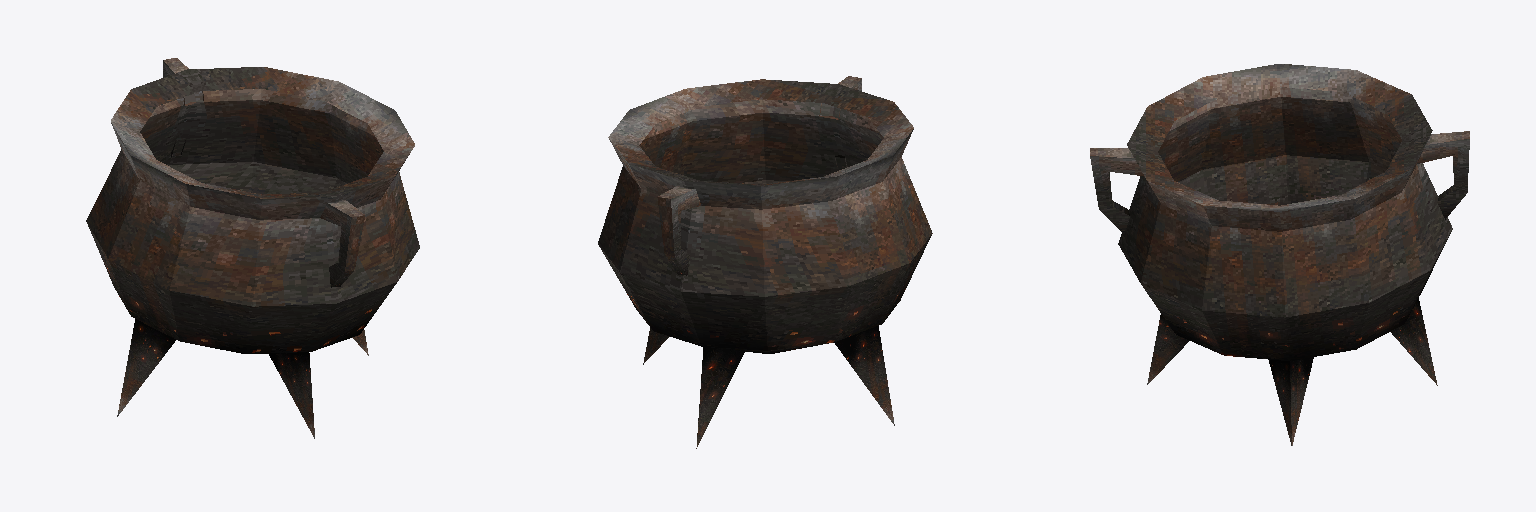
3 views of the same model, side by side, from view 1: azimuth 30°, elevation 25°; view 2: azimuth 150°, elevation 25°; view 3: azimuth 270°, elevation 25° (orthographic).
Visible parts, largest first — view 1: cauldronempty.m2; view 2: cauldronempty.m2; view 3: cauldronempty.m2.
Part boxes in pixels (x1,y1,x2,y2): cauldronempty.m2: (86, 58, 419, 438); cauldronempty.m2: (598, 76, 932, 448); cauldronempty.m2: (1090, 64, 1469, 445).
Bounding box in the file's own units: 1.78 × 1.57 × 2.02.
1 materials, 1 textured.